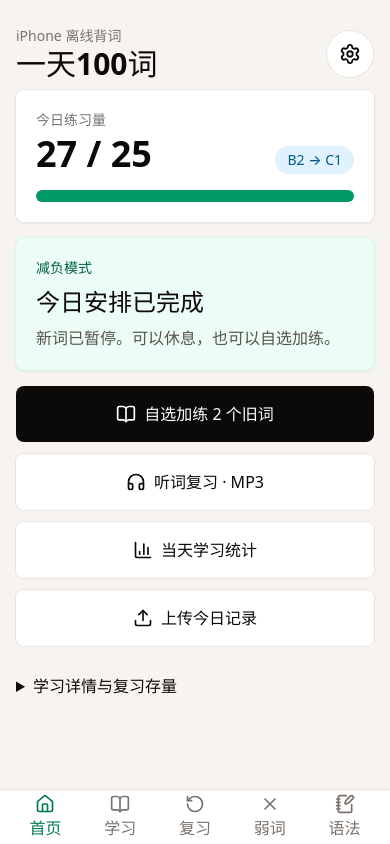
Test: actual session navigation › allows voluntary review after the relief target without stopping after one word
Click the button "自选加练 2 个旧词": (195, 414) [16,386,374,442]
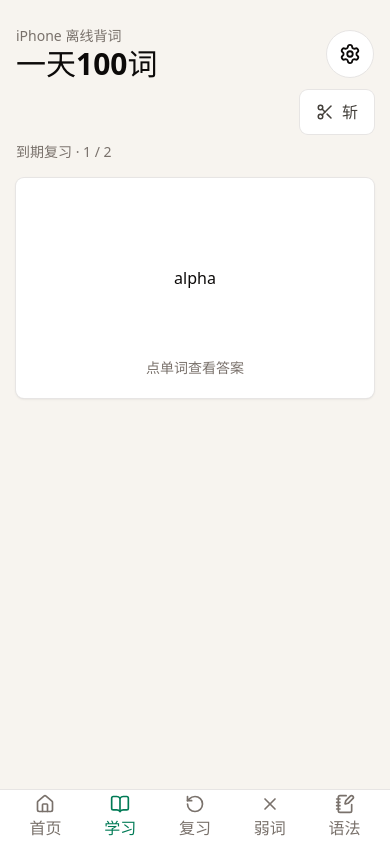
Expected: the element named "单词回忆" is shown, [16,142,374,398]
Result: the element named "单词回忆" shows "alpha"
Result: the button "alpha" is shown
Click the button "alpha": (195, 278) [36,198,354,358]
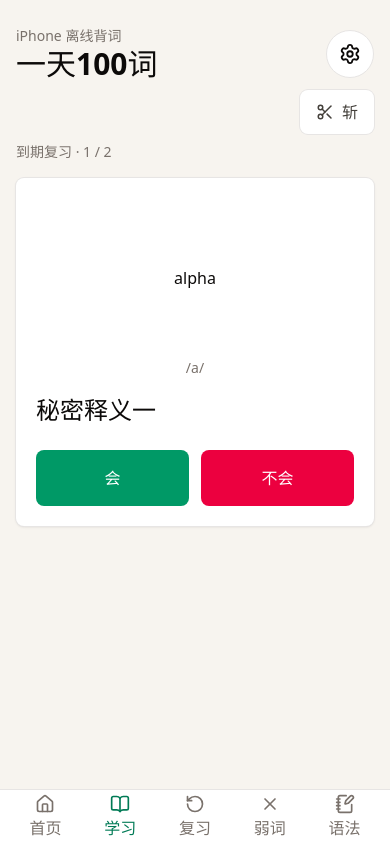
Result: the button "会" is shown
Click the button "会": (112, 478) [36,450,189,506]
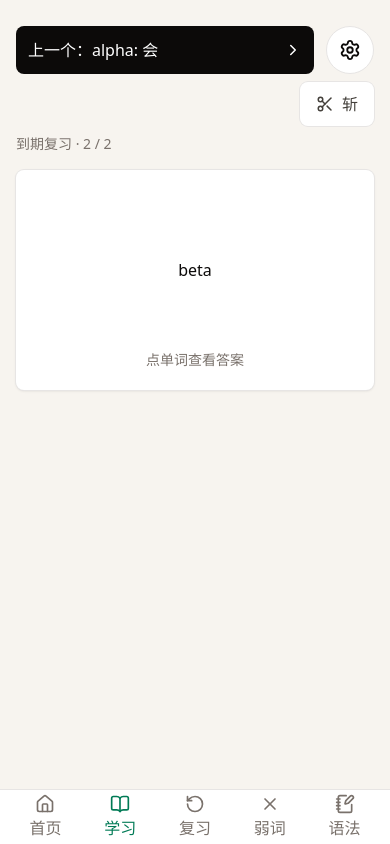
Expected: the element named "单词回忆" is shown, [16,134,374,390]
Result: the button "beta" is shown
Result: the element named "单词回忆" shows "beta"
Click the button "beta": (195, 270) [36,190,354,350]
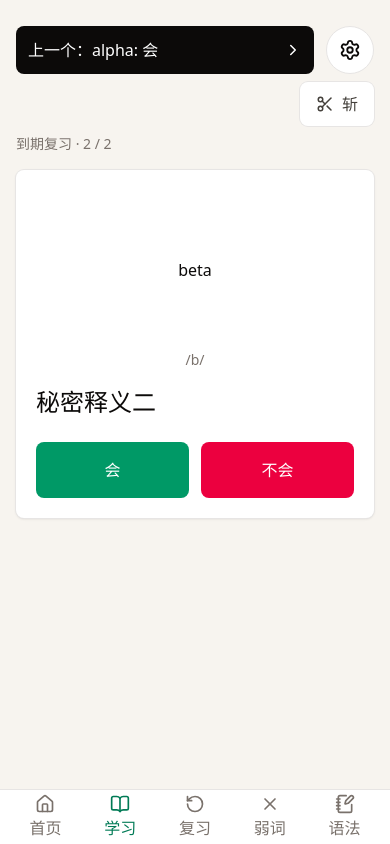
Result: the button "会" is shown
Click the button "会": (112, 470) [36,442,189,498]
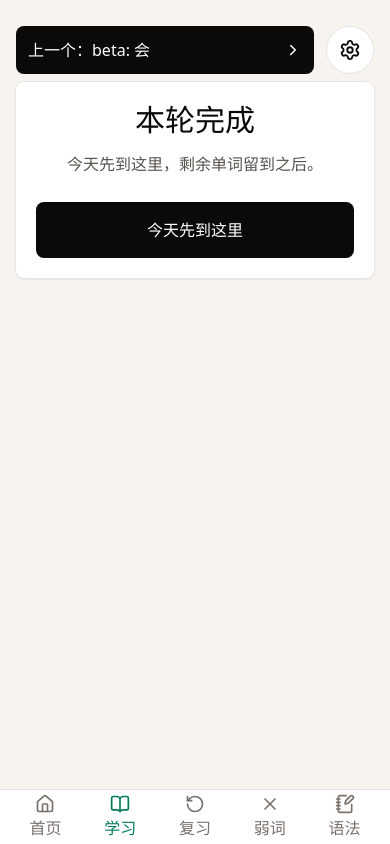
Result: the text "本轮完成" is shown at [135,99,255,140]
